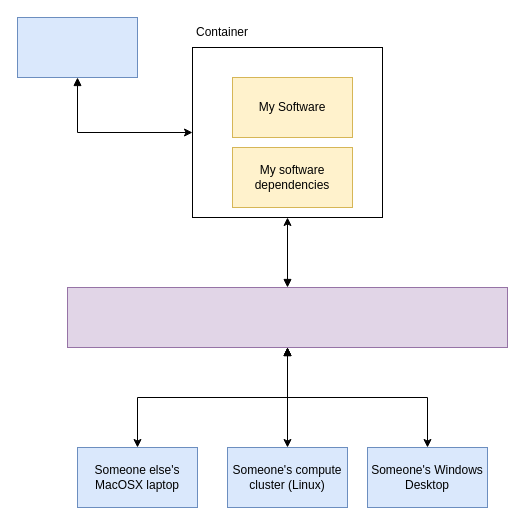
Image size: 525x525. Some labels were removed from this diagram. The centre of each missing label's shape, as x and y in pixels:
Container Runtime Engine: (x=287, y=317)
My Linux Laptop: (x=77, y=47)
